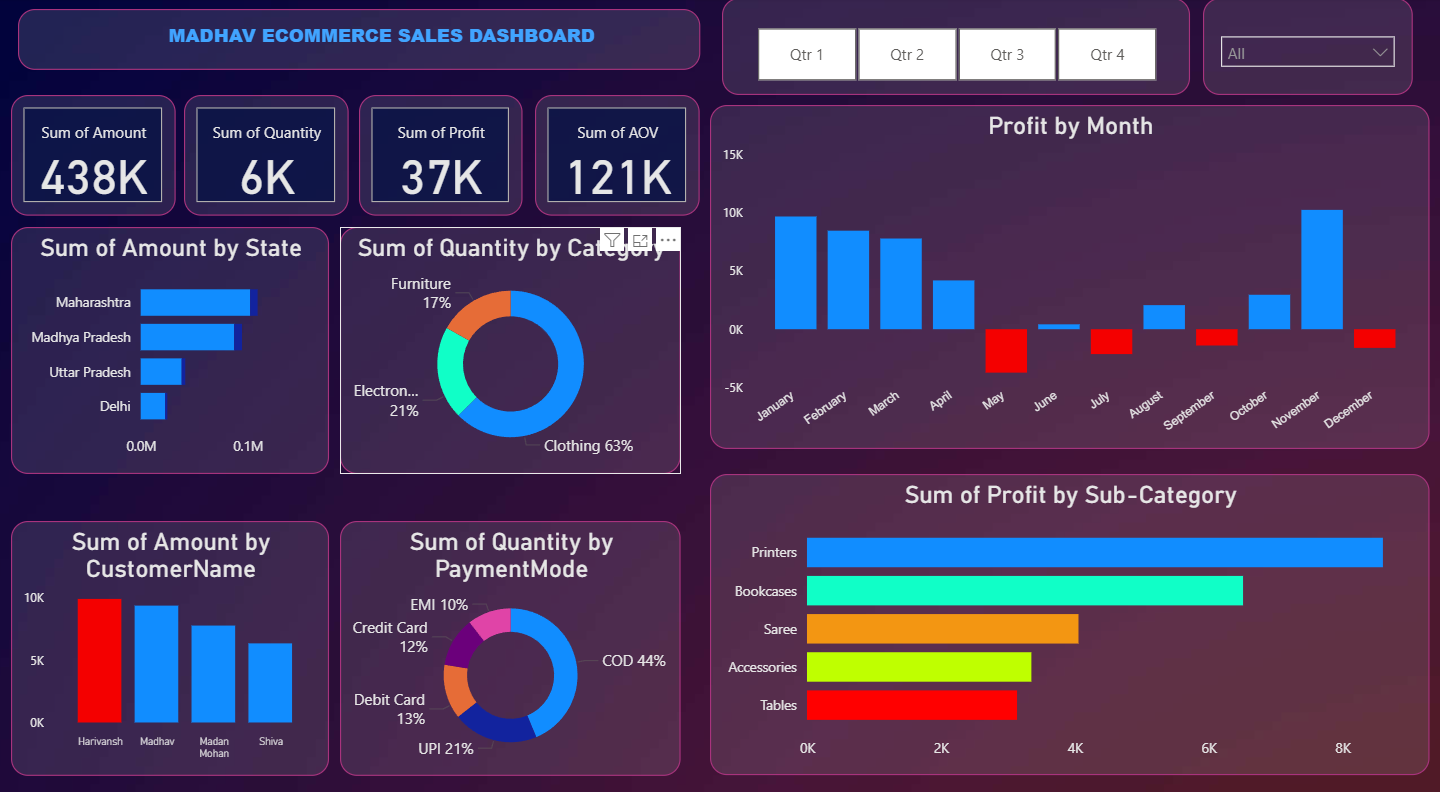

The dashboard page shown, as its layout file describes it:
{"tool":"powerbi","page":{"name":"Page 1","canvas":[1280,720],"ordinal":0},"visuals":[{"type":"textbox","box":[15.6,9.7,605,54.5],"z":0},{"type":"columnChart","title":"Profit by Month","fields":{"Category":["Orders.Order Date.Variation.Date Hierarchy.Month"],"Y":["Sum(Details.Profit)"]},"box":[629.3,95.3,638.1,305.4],"z":1000},{"type":"barChart","fields":{"Category":["Details.Sub-Category"],"Y":["Sum(Details.Profit)"]},"box":[629.3,422.1,638.1,267.5],"z":2000},{"type":"donutChart","fields":{"Category":["Details.Category"],"Y":["Sum(Details.Quantity)"]},"box":[301.5,203.3,302.5,218.8],"z":3000},{"type":"donutChart","fields":{"Y":["Sum(Details.Quantity)"],"Category":["Details.PaymentMode"]},"box":[301.5,464,302.5,225.7],"z":4000},{"type":"cardVisual","fields":{"Data":["Sum(Details.Amount)"]},"box":[9.7,85.6,145.9,107],"z":4001},{"type":"cardVisual","fields":{"Data":["Sum(Details.Quantity)"]},"box":[163.4,85.6,145.9,107],"z":4002},{"type":"cardVisual","fields":{"Data":["Sum(Details.Profit)"]},"box":[318.1,85.6,144.9,107],"z":4003},{"type":"cardVisual","fields":{"Data":["Sum(Details.AOV)"]},"box":[474.7,85.6,145.9,107],"z":4004},{"type":"barChart","title":"Sum of Amount by State","fields":{"Category":["Orders.State","Details.Sub-Category"],"Y":["Sum(Details.Amount)","Sum(Details.Profit)"]},"box":[9.7,203.3,282.1,218.8],"z":4005},{"type":"columnChart","fields":{"Category":["Orders.CustomerName"],"Y":["Sum(Details.Amount)"]},"box":[9.7,464,282.1,225.7],"z":4006},{"type":"slicer","fields":{"Values":["Orders.Order Date.Variation.Date Hierarchy.Quarter"]},"box":[640,0,415.3,85.6],"z":4007},{"type":"slicer","fields":{"Values":["Orders.State"]},"box":[1067,0,185.8,85.6],"z":4008}]}

Visuals, with their boxes in screenshot pixels (x1, y1, x2, y2), scaled from the page's 1280x720 canvas onto the 1440x792 screenshot:
textbox: <bbox>18, 11, 698, 71</bbox>
"Profit by Month" columnChart: <bbox>708, 105, 1426, 441</bbox>
barChart - Details.Sub-Category x Sum(Details.Profit): <bbox>708, 464, 1426, 759</bbox>
donutChart - Details.Category x Sum(Details.Quantity): <bbox>339, 224, 680, 464</bbox>
donutChart - Sum(Details.Quantity) x Details.PaymentMode: <bbox>339, 510, 680, 759</bbox>
cardVisual - Sum(Details.Amount): <bbox>11, 94, 175, 212</bbox>
cardVisual - Sum(Details.Quantity): <bbox>184, 94, 348, 212</bbox>
cardVisual - Sum(Details.Profit): <bbox>358, 94, 521, 212</bbox>
cardVisual - Sum(Details.AOV): <bbox>534, 94, 698, 212</bbox>
"Sum of Amount by State" barChart: <bbox>11, 224, 328, 464</bbox>
columnChart - Orders.CustomerName x Sum(Details.Amount): <bbox>11, 510, 328, 759</bbox>
slicer - Orders.Order Date.Variation.Date Hierarchy.Quarter: <bbox>720, 0, 1187, 94</bbox>
slicer - Orders.State: <bbox>1200, 0, 1409, 94</bbox>
